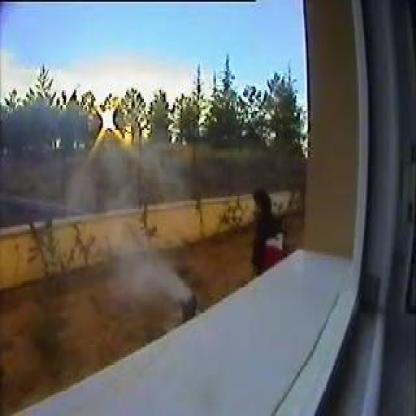-: (137, 260, 189, 307)
